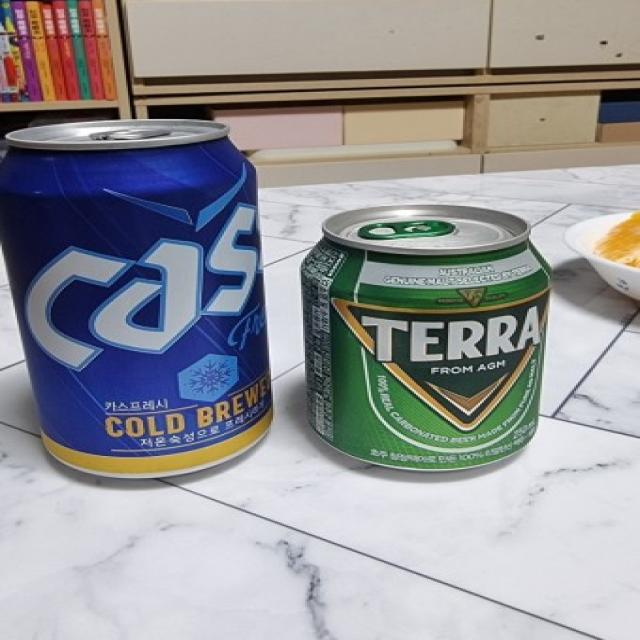can: (1, 114, 278, 482), (301, 203, 554, 487)
